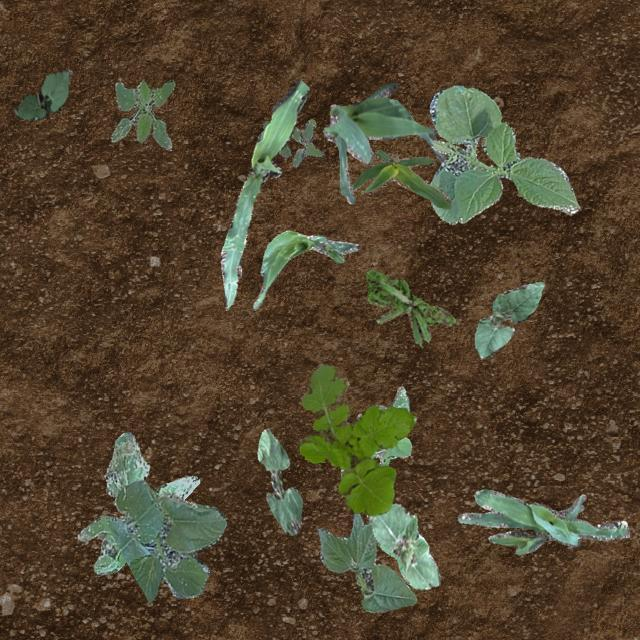crop: (428, 84, 578, 224), (220, 78, 308, 306), (322, 82, 444, 204), (107, 478, 226, 602), (456, 488, 628, 554), (316, 512, 416, 612), (252, 230, 360, 308), (366, 502, 440, 588), (350, 148, 450, 208), (474, 282, 544, 358), (256, 428, 302, 534), (12, 68, 72, 119)
weed: (298, 362, 414, 514), (76, 430, 198, 574), (364, 268, 454, 344), (110, 78, 174, 150), (370, 386, 410, 466), (262, 118, 322, 166)
